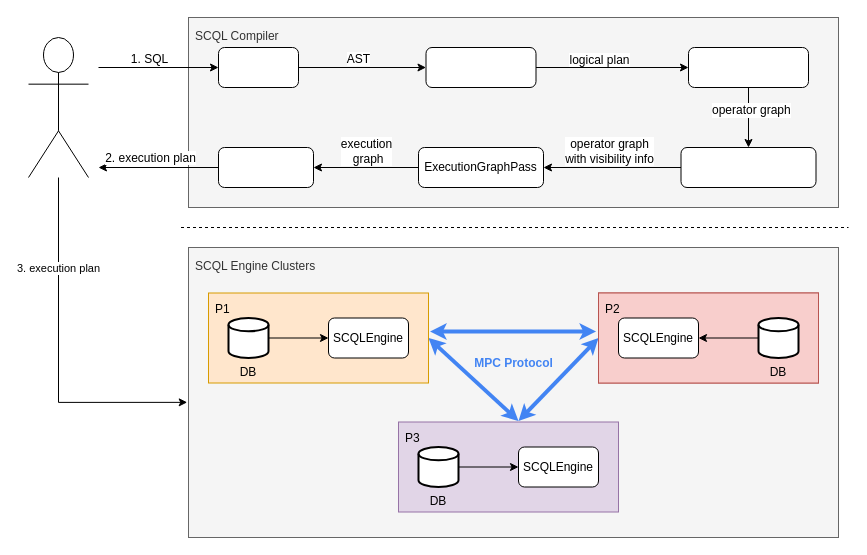
Image size: 867x555. Some labels were removed from this diagram. The shapes that lost their labels are listed below. From the top down, each one's centre as x and y in pixels, then its label:
At point (258, 67): "ParserPass".
At point (480, 67): "LogicalPlanPass".
At point (748, 67): "OperatorGraphPass".
At point (58, 107): "Client".
At point (266, 167): "CodeGenPass".
At point (748, 167): "VisibilityAnalysisPass".
